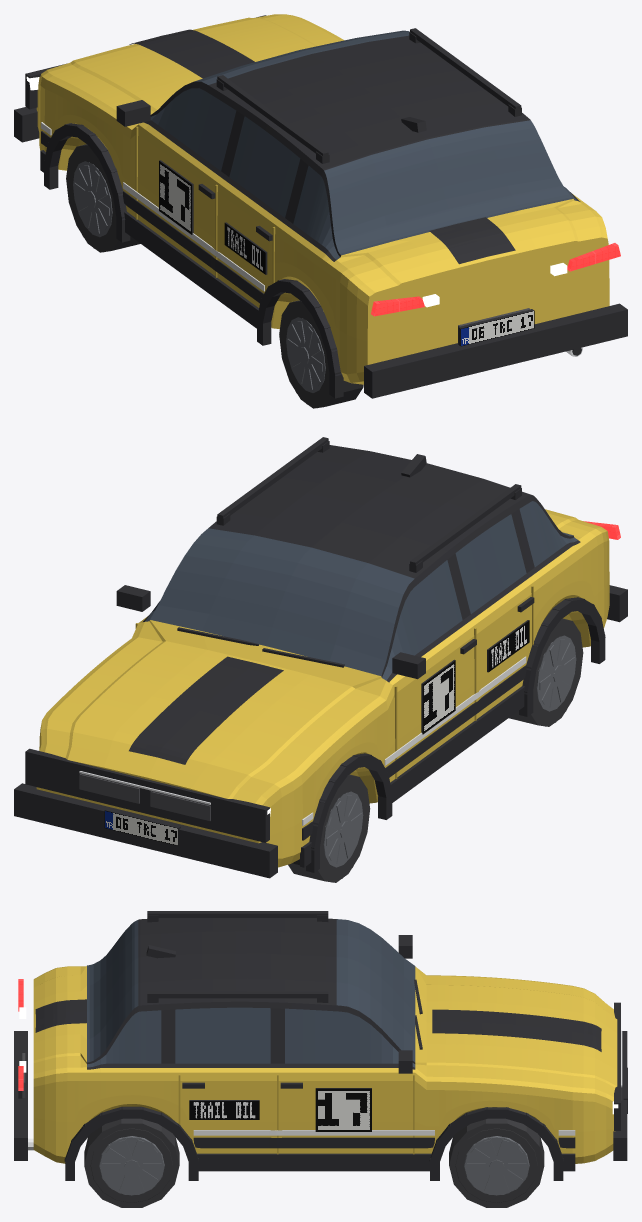
Rendered from troc.glb.
3 renders of one model, top to bottom at view 1: azimuth 30°, elevation 25°; view 2: azimuth 150°, elevation 25°; view 3: azimuth 270°, elevation 25°, orthographic. The views are drawn at different scales.
Parts seen in each view (by area): view 1: body.019, livery.018, wheel_RL.019, wheel_FL.019; view 2: body.019, livery.018, wheel_FL.019, wheel_RL.019; view 3: body.019, livery.018, wheel_FR.019, wheel_RR.019.
Boxes of the visible parts, left/top/right/bottom form: body.019: left=14, top=14, right=627, bottom=398; livery.018: left=41, top=29, right=515, bottom=303; wheel_RL.019: left=279, top=300, right=363, bottom=408; wheel_FL.019: left=66, top=144, right=140, bottom=252; body.019: left=14, top=437, right=627, bottom=878; livery.018: left=129, top=620, right=529, bottom=840; wheel_FL.019: left=288, top=774, right=370, bottom=882; wheel_RL.019: left=509, top=618, right=583, bottom=726; body.019: left=14, top=911, right=627, bottom=1180; livery.018: left=35, top=999, right=601, bottom=1148; wheel_FR.019: left=449, top=1118, right=544, bottom=1207; wheel_RR.019: left=84, top=1118, right=179, bottom=1207.
Bounding box in the file's own units: 2.12 × 1.65 × 4.38.
15 materials, 5 textured.
